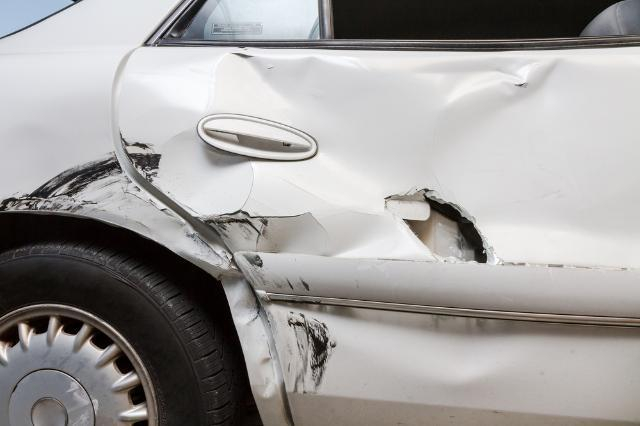crack: (403, 196, 490, 265)
dent: (121, 53, 640, 269), (147, 216, 281, 399), (344, 310, 543, 385)
scratch: (0, 152, 142, 218), (287, 312, 340, 396), (243, 252, 314, 291)
